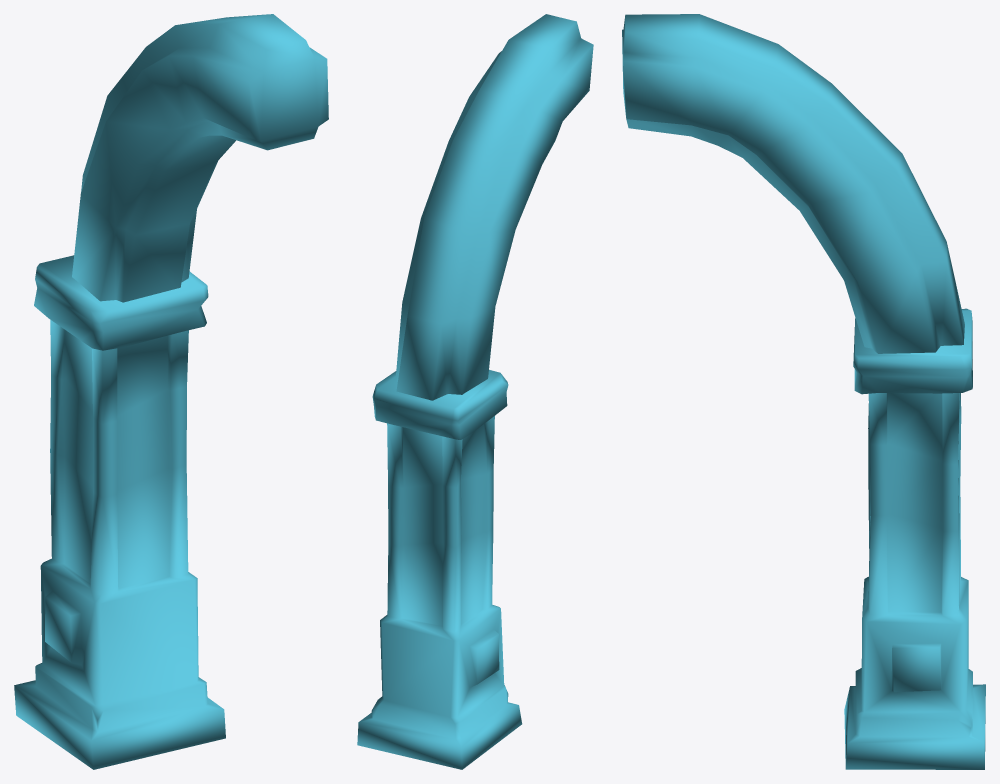
File: column_arc_01.FBX
3 views of the same model, side by side, from view 1: azimuth 30°, elevation 25°; view 2: azimuth 150°, elevation 25°; view 3: azimuth 270°, elevation 25° (orthographic). The views are drawn at different scales.
Visible parts, largest first — view 1: column_arc_01; view 2: column_arc_01; view 3: column_arc_01.
Boxes of the visible parts, x1,y1,x2,y2 form: column_arc_01: [14, 14, 328, 769]; column_arc_01: [357, 14, 593, 769]; column_arc_01: [622, 14, 985, 769].
Size of the model in its own units: 36.05 by 205 by 94.
